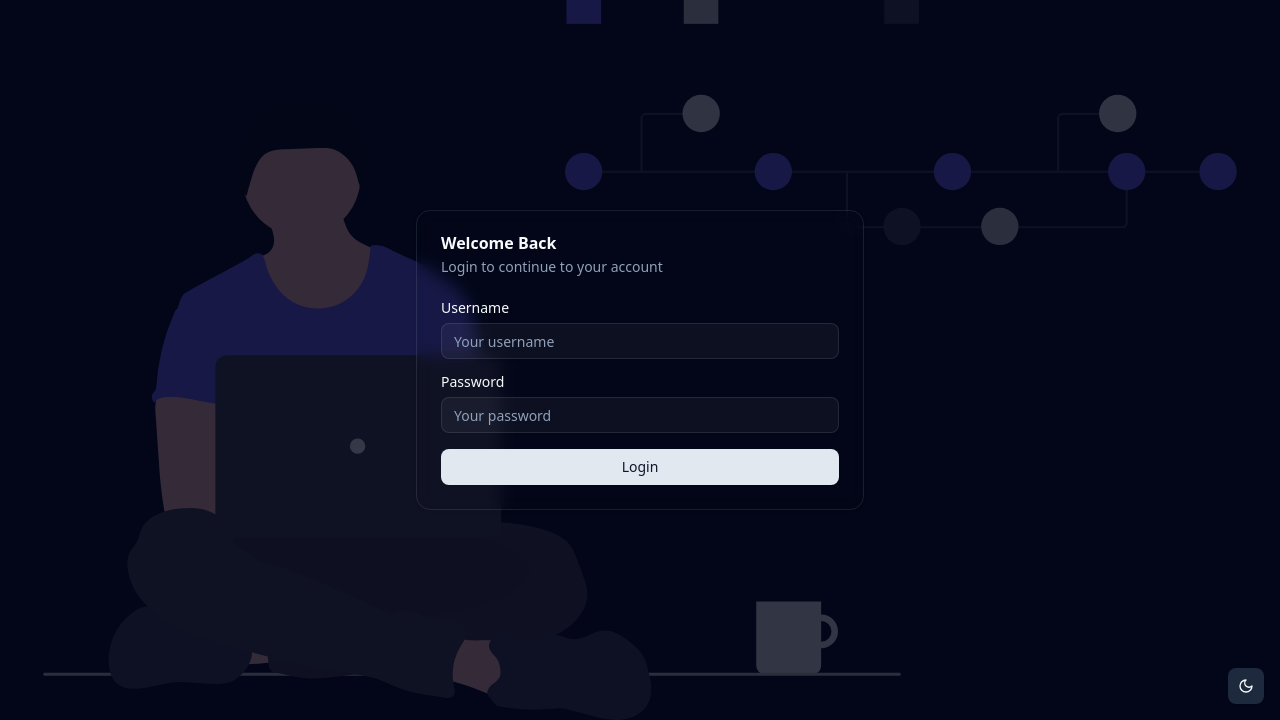
Test case: Login page › should show error message for empty credentials
This screenshot has width=1280, height=720.
Click the submit button.
click(640, 467)  # box [441, 449, 839, 485]
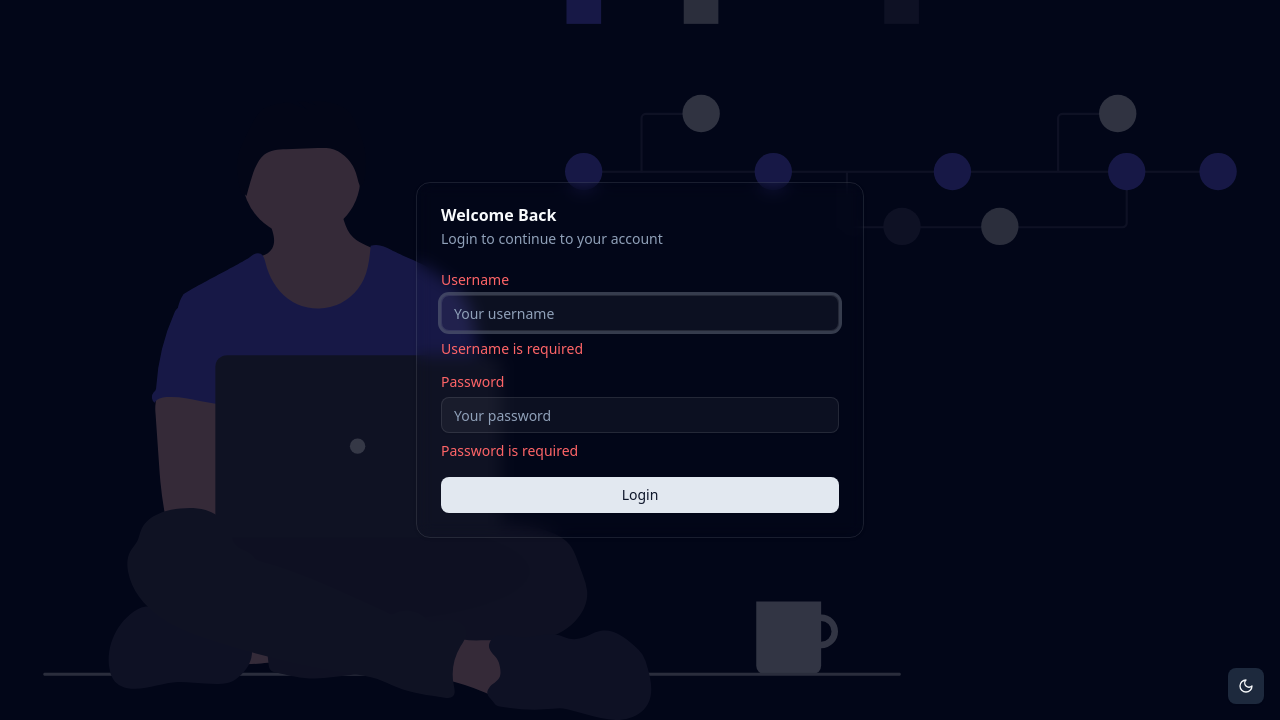
Result: the text "Username is required" is shown at [441, 339, 583, 358]
Result: the text "Password is required" is shown at [441, 441, 578, 460]
